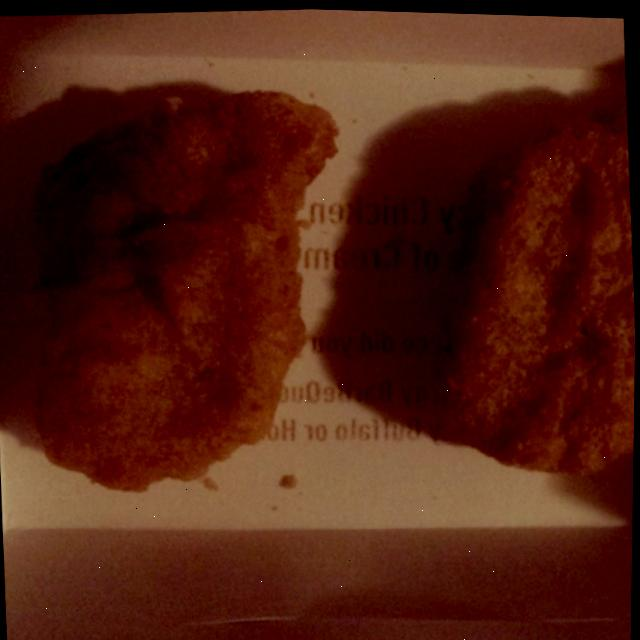鸡肉料理 含炸鸡: (0, 51, 639, 636)
